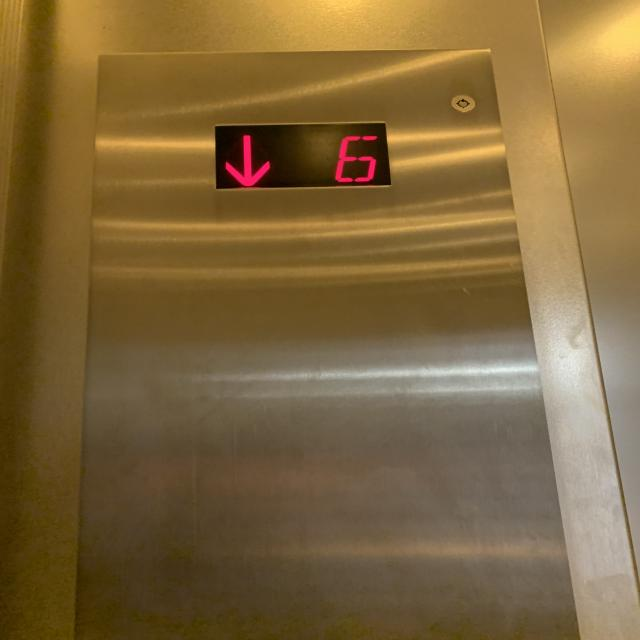box: (204, 120, 400, 193)
